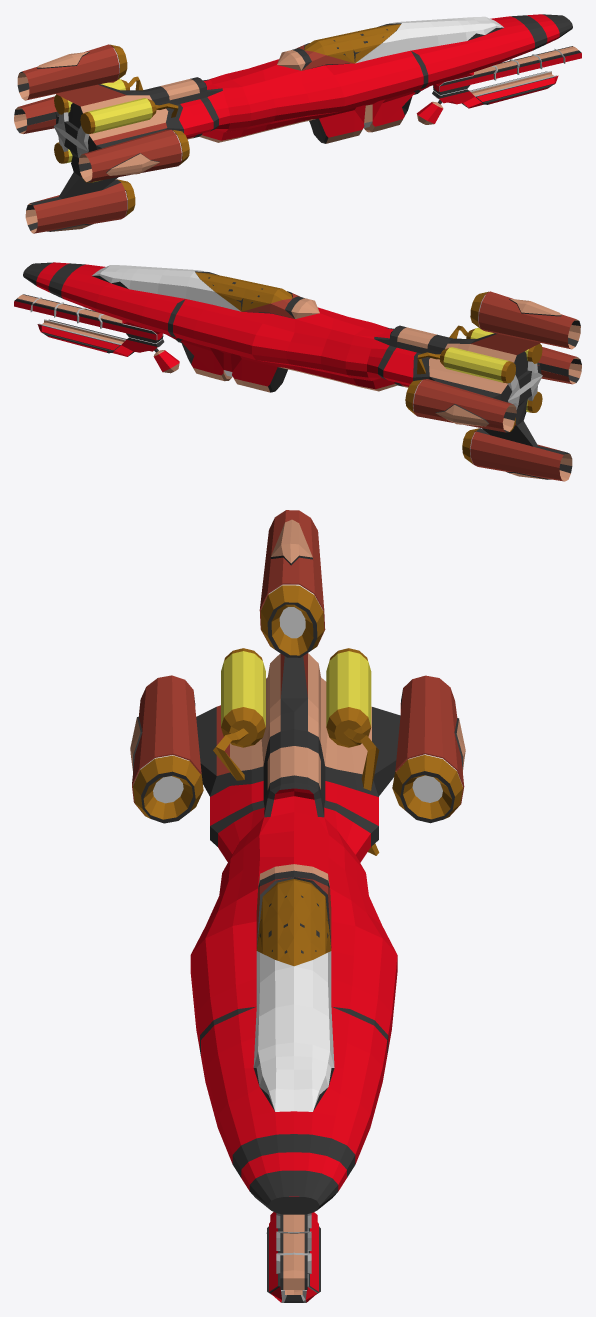
File: BCW.fbx
The picture shows the model from 3 angles, top to bottom: view 1: azimuth 30°, elevation 25°; view 2: azimuth 150°, elevation 25°; view 3: azimuth 270°, elevation 25°; orthographic projection. The views are drawn at different scales.
Parts seen in each view (by area): view 1: WUPGBOOST.001; view 2: WUPGBOOST.001; view 3: WUPGBOOST.001.
Boxes of the visible parts, x1,y1,x2,y2 form: WUPGBOOST.001: (14,14,581,233); WUPGBOOST.001: (14,262,581,481); WUPGBOOST.001: (130,510,465,1302).
Bounding box in the file's own units: 481 × 144 × 126.
